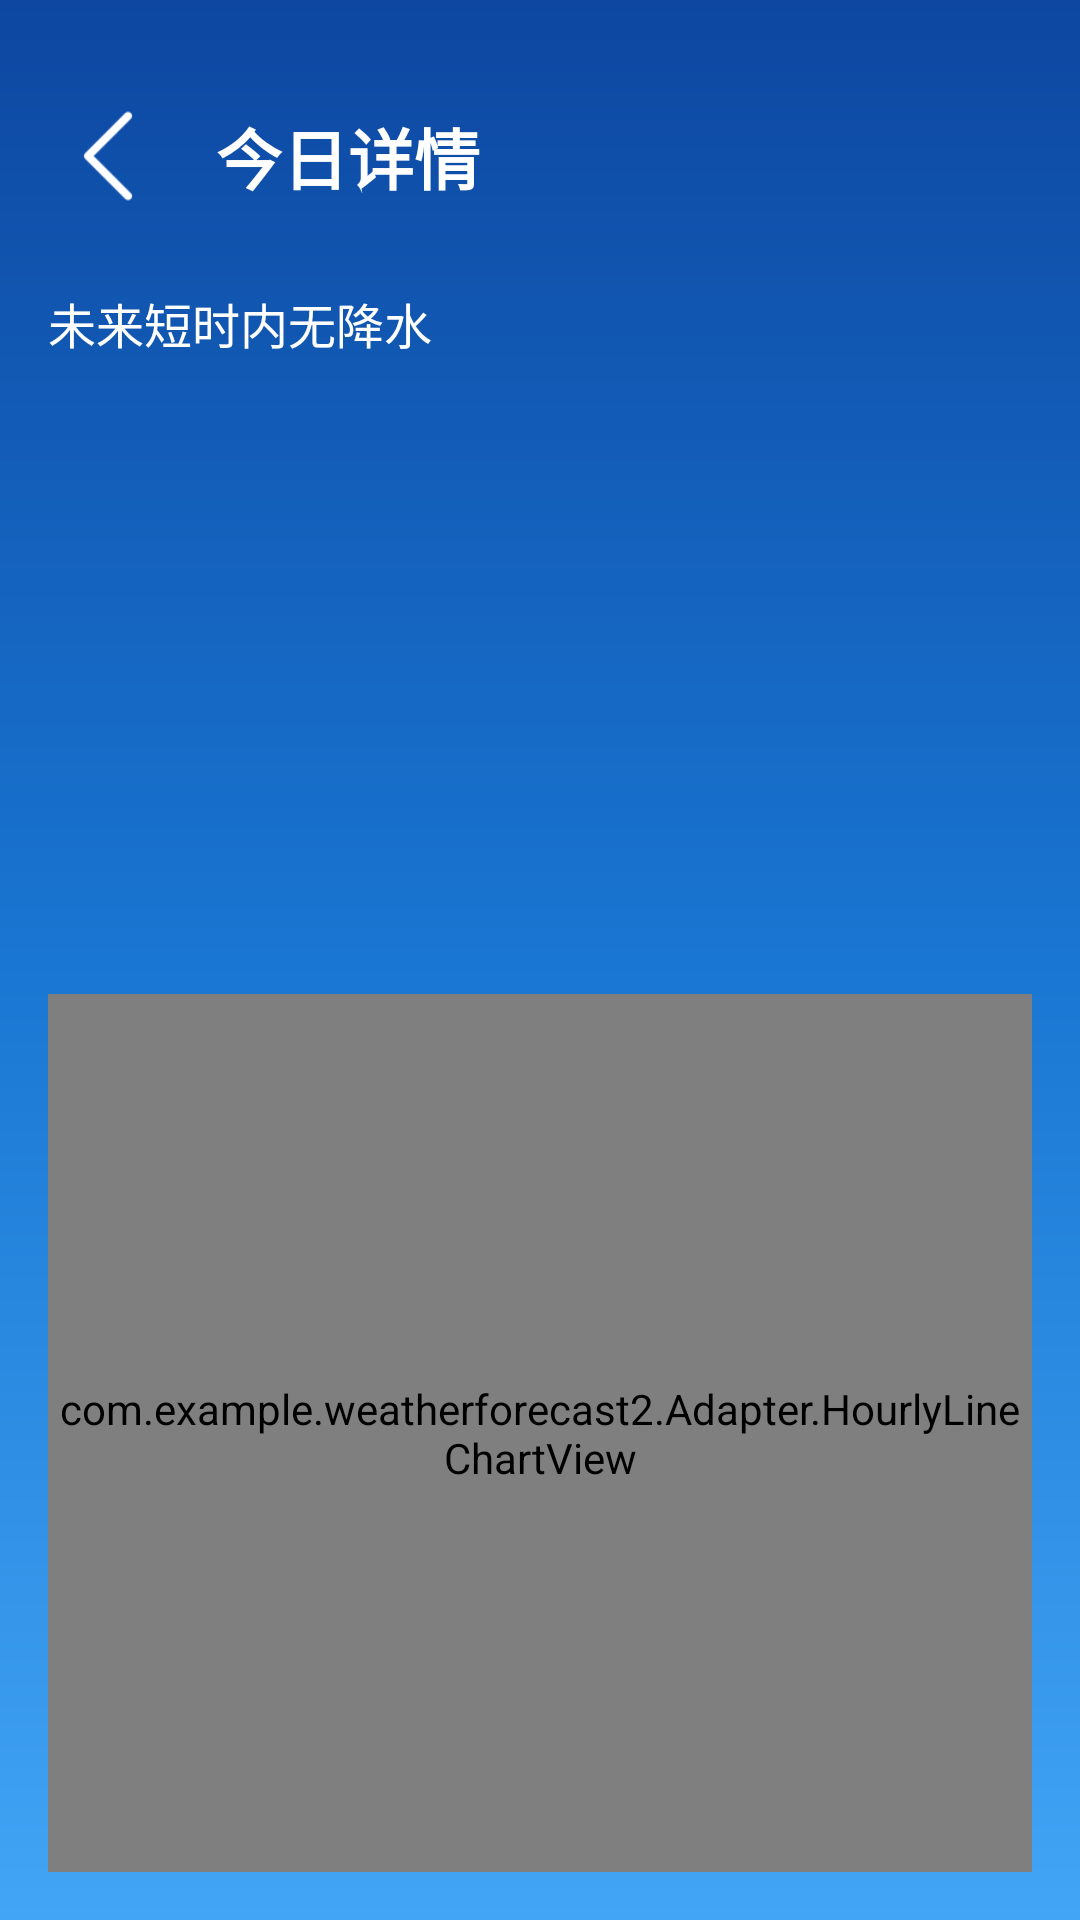

Locate icon controls on the screen. Image size 1080 x 1920, boxes as box(x1, y1, x2, y2).
返回: box(84, 111, 132, 201)
